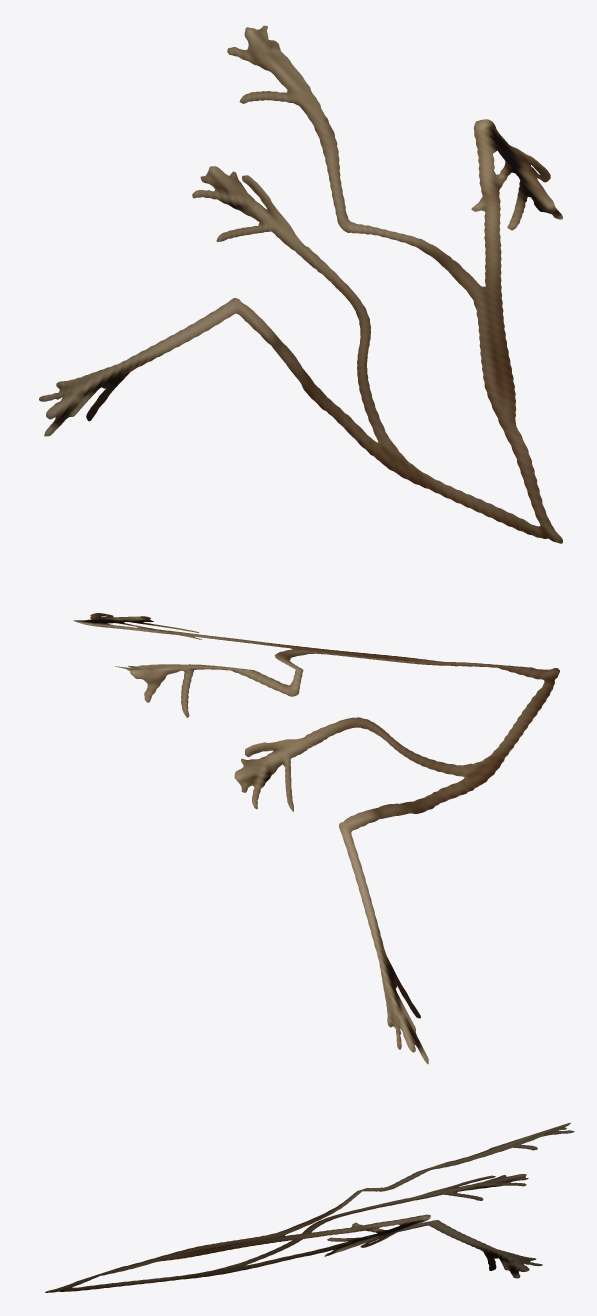
Rendered from MEP_D_Grass_02.fbx.
The picture shows the model from 3 angles, top to bottom: view 1: azimuth 30°, elevation 25°; view 2: azimuth 150°, elevation 25°; view 3: azimuth 270°, elevation 25°; orthographic projection. The views are drawn at different scales.
Parts seen in each view (by area): view 1: MEP_D_Grass_02; view 2: MEP_D_Grass_02; view 3: MEP_D_Grass_02.
Boxes of the visible parts, bbox=[...] form: MEP_D_Grass_02: bbox=[39, 25, 562, 543]; MEP_D_Grass_02: bbox=[73, 613, 559, 1064]; MEP_D_Grass_02: bbox=[45, 1122, 574, 1292].
Bounding box in the file's own units: 0.3964 × 0.277 × 0.5671.
